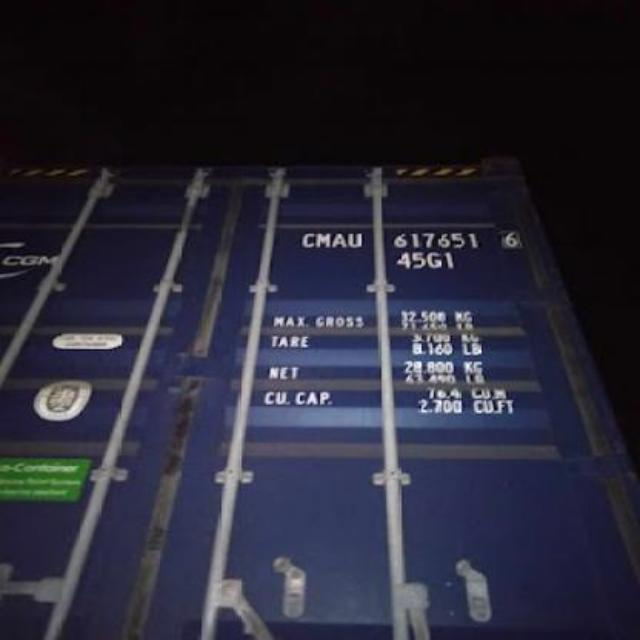1: (466, 230, 486, 252), (410, 230, 422, 250)
5: (450, 228, 466, 254)
6: (500, 226, 526, 250), (394, 230, 410, 252), (434, 228, 450, 250)
7: (424, 230, 436, 250)
A: (334, 231, 344, 251)
C: (299, 231, 315, 255)
M: (310, 231, 330, 247)
U: (348, 231, 366, 251)
